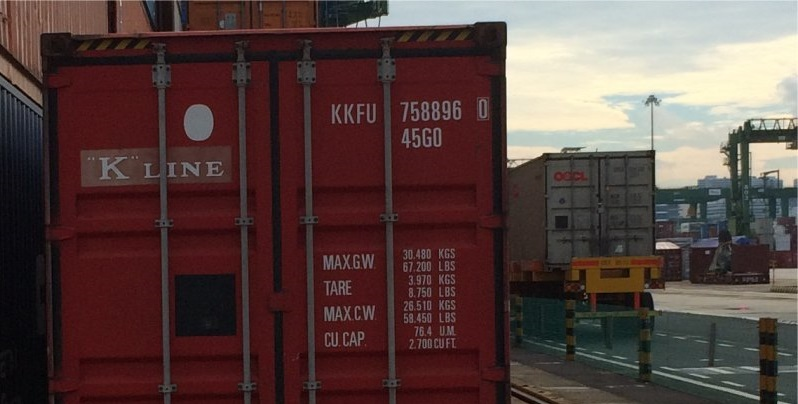container_door: (38, 21, 509, 397)
